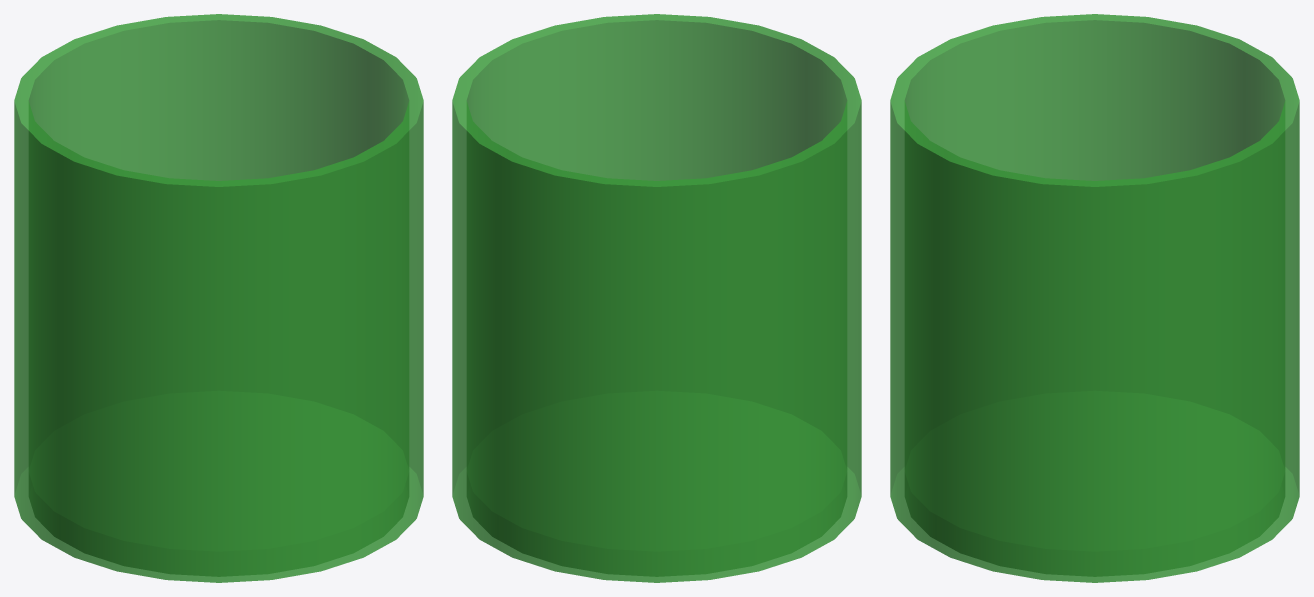
File: green.dae
3 views of the same model, side by side, from view 1: azimuth 30°, elevation 25°; view 2: azimuth 150°, elevation 25°; view 3: azimuth 270°, elevation 25° (orthographic).
Visible parts, largest first — view 1: SketchUp (×3); view 2: SketchUp (×3); view 3: SketchUp (×3).
Boxes of the visible parts, x1,y1,x2,y2 form: SketchUp (×3): (14,14,423,582); SketchUp (×3): (452,14,861,582); SketchUp (×3): (890,14,1299,582).
Size of the model in its own units: 2.95 by 2.95 by 3.15.
1 material, 1 textured.
